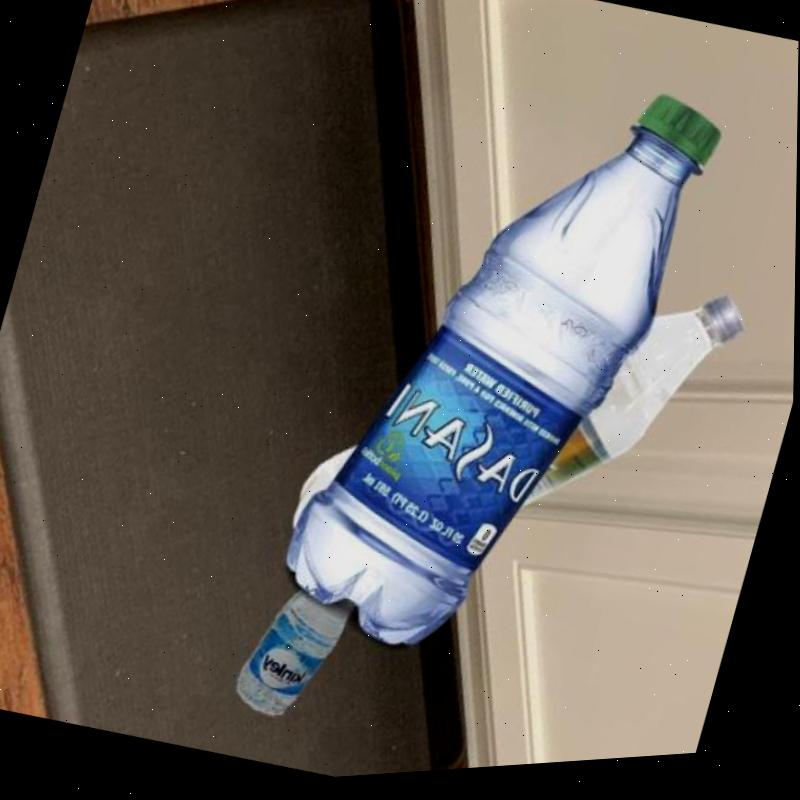botella: (267, 37, 730, 708), (288, 211, 753, 633), (232, 572, 357, 734)
